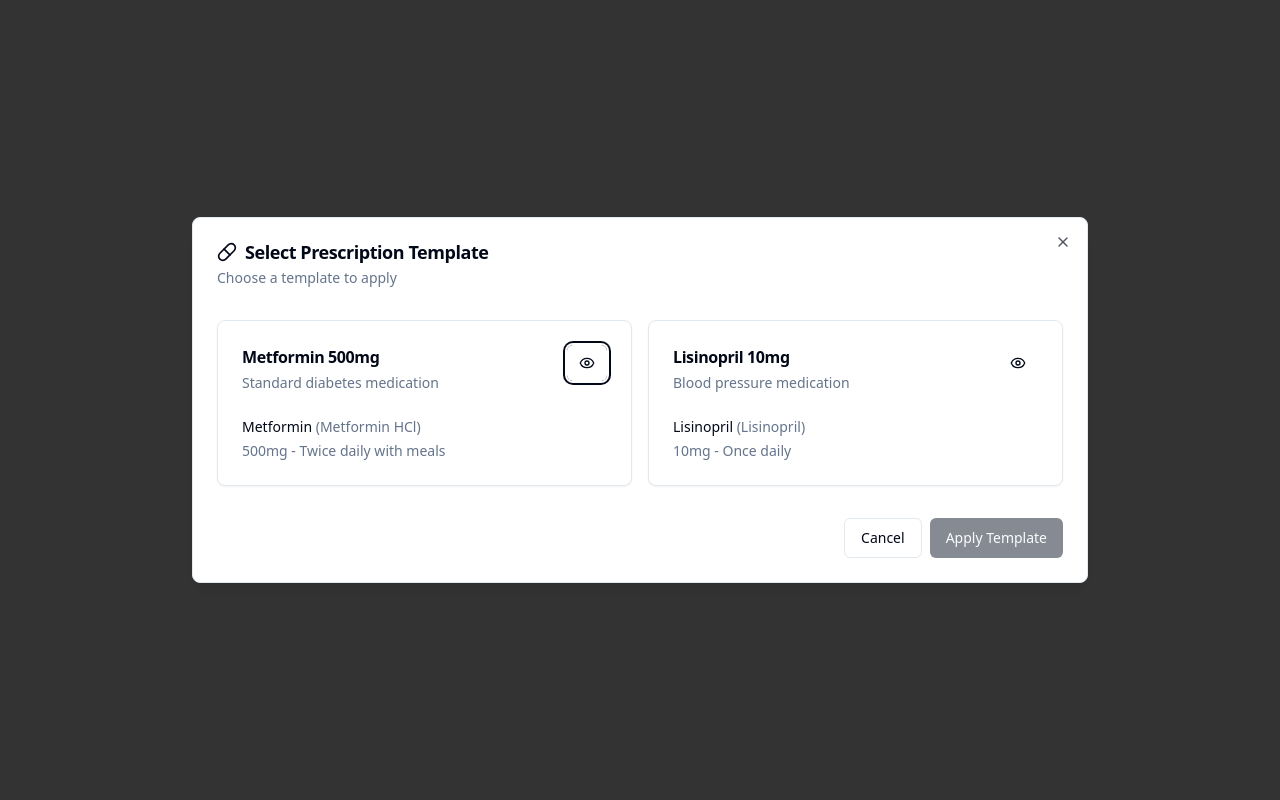
PrescriptionTemplateSelector › Template Selection › selects template when card is clicked
# Click on a template card
Click the heading "Metformin 500mg".
click(311, 357)  # box x1=242 y1=346 x2=379 y2=368
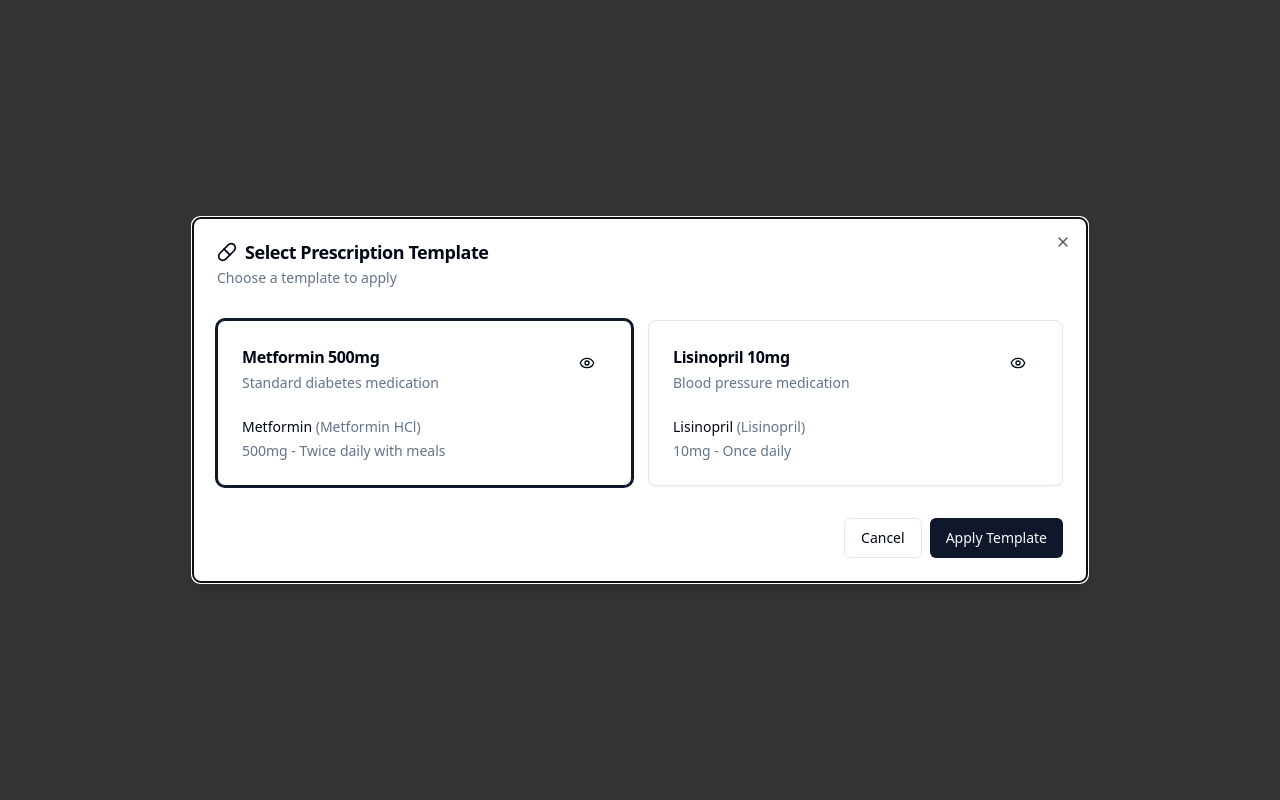
Expected: the button "Apply Template" is enabled, x1=930 y1=518 x2=1063 y2=558
